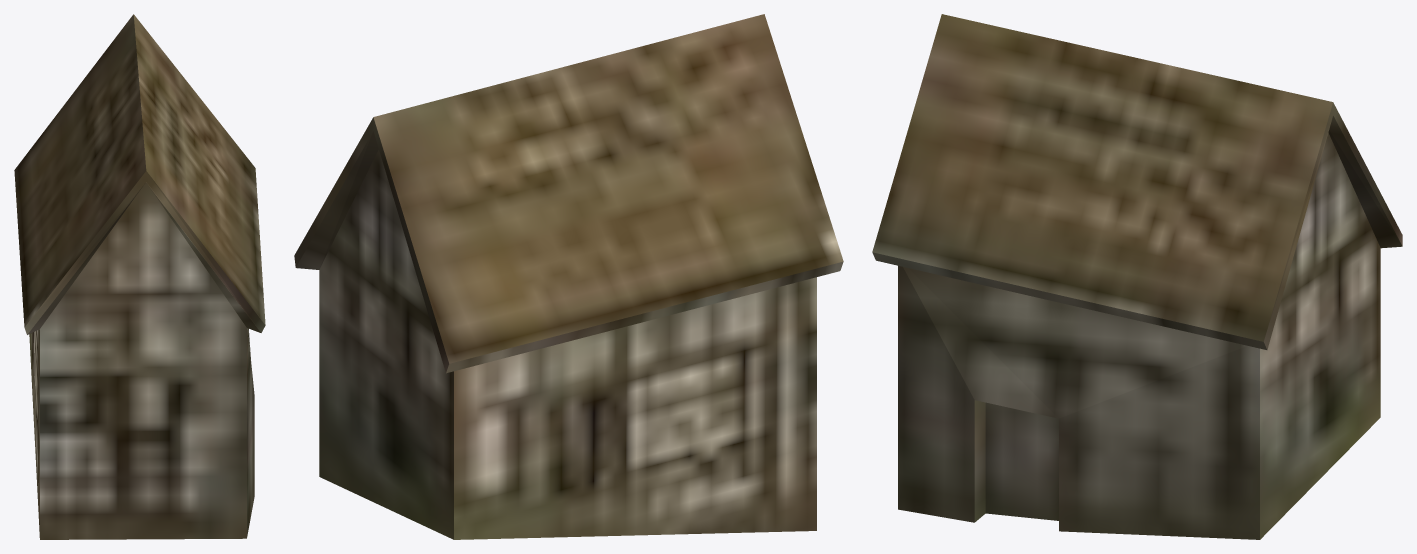
File: house_02_game_lod1.glb
3 renders of one model, left to right at view 1: azimuth 30°, elevation 25°; view 2: azimuth 150°, elevation 25°; view 3: azimuth 270°, elevation 25°, orthographic. The views are drawn at different scales.
Visible parts, largest first — view 1: geometry_0; view 2: geometry_0; view 3: geometry_0.
Part boxes in pixels (box(x1,y1,x2,y2)): geometry_0: box(14, 14, 265, 539); geometry_0: box(294, 14, 843, 539); geometry_0: box(872, 14, 1402, 539).
Size of the model in its own units: 9.3 by 9.89 by 10.62.
Materials: 1 (1 with a texture image).
